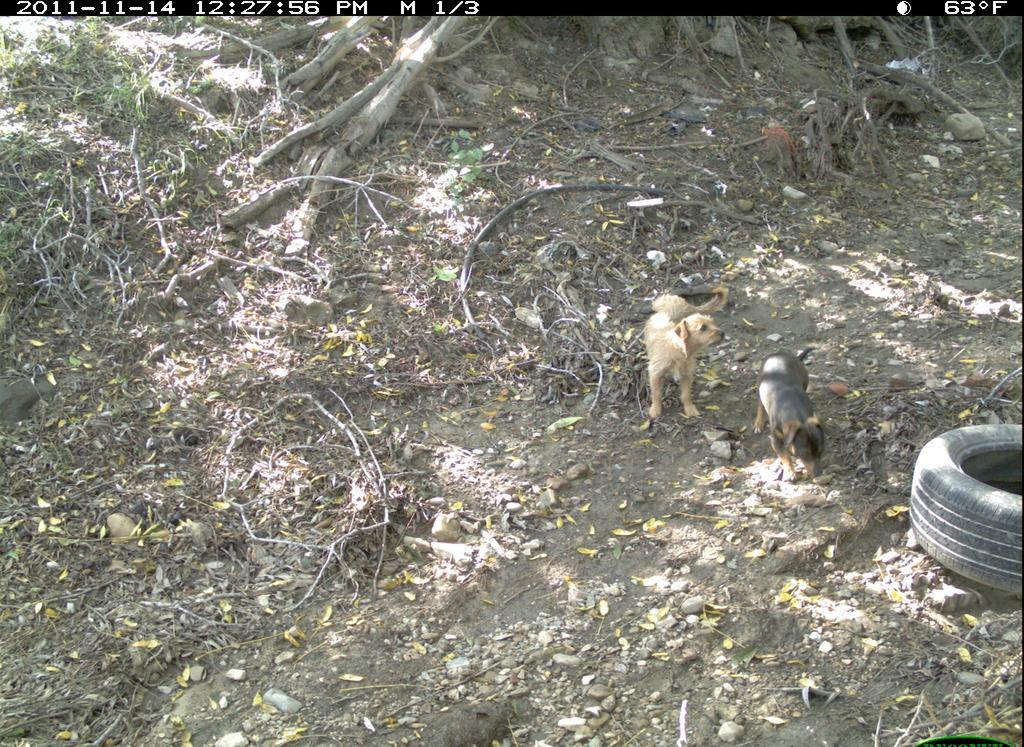dog: (633, 280, 733, 429), (747, 340, 841, 492)
